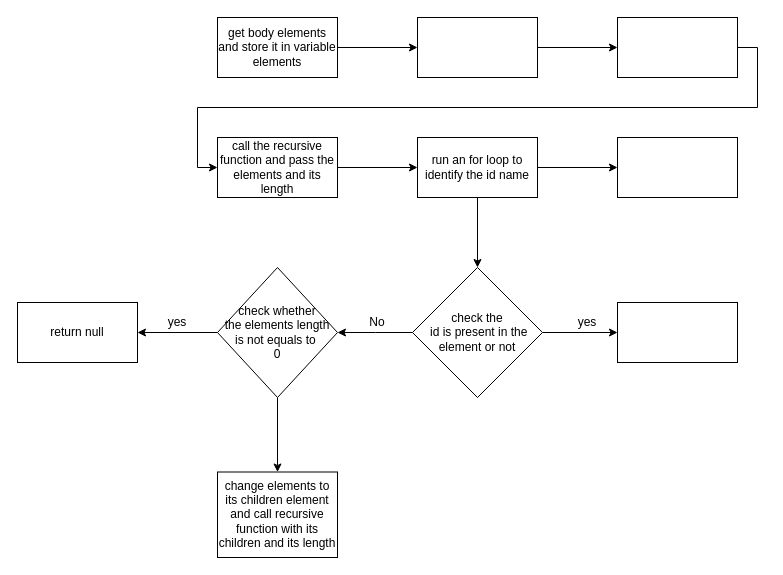
Image size: 783x575. Some labels were removed from this diagram. Each missing label, with the box of its shape:
After loop completed it return the result.: (616, 136, 738, 198)
create an varaible for result: (616, 16, 738, 78)
get elements length from elements: (416, 16, 538, 78)
store the element in the result and break the loop: (616, 302, 738, 362)
